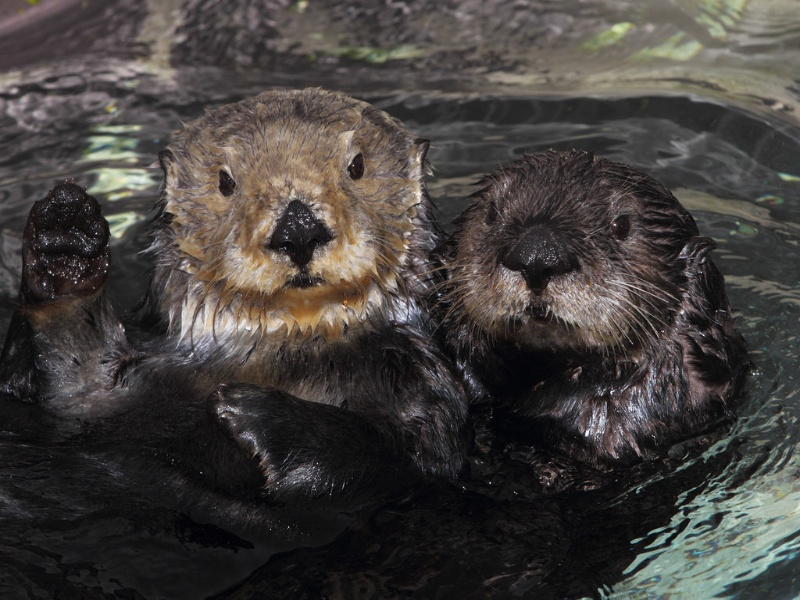minkish: (169, 111, 424, 301), (465, 160, 677, 352)
